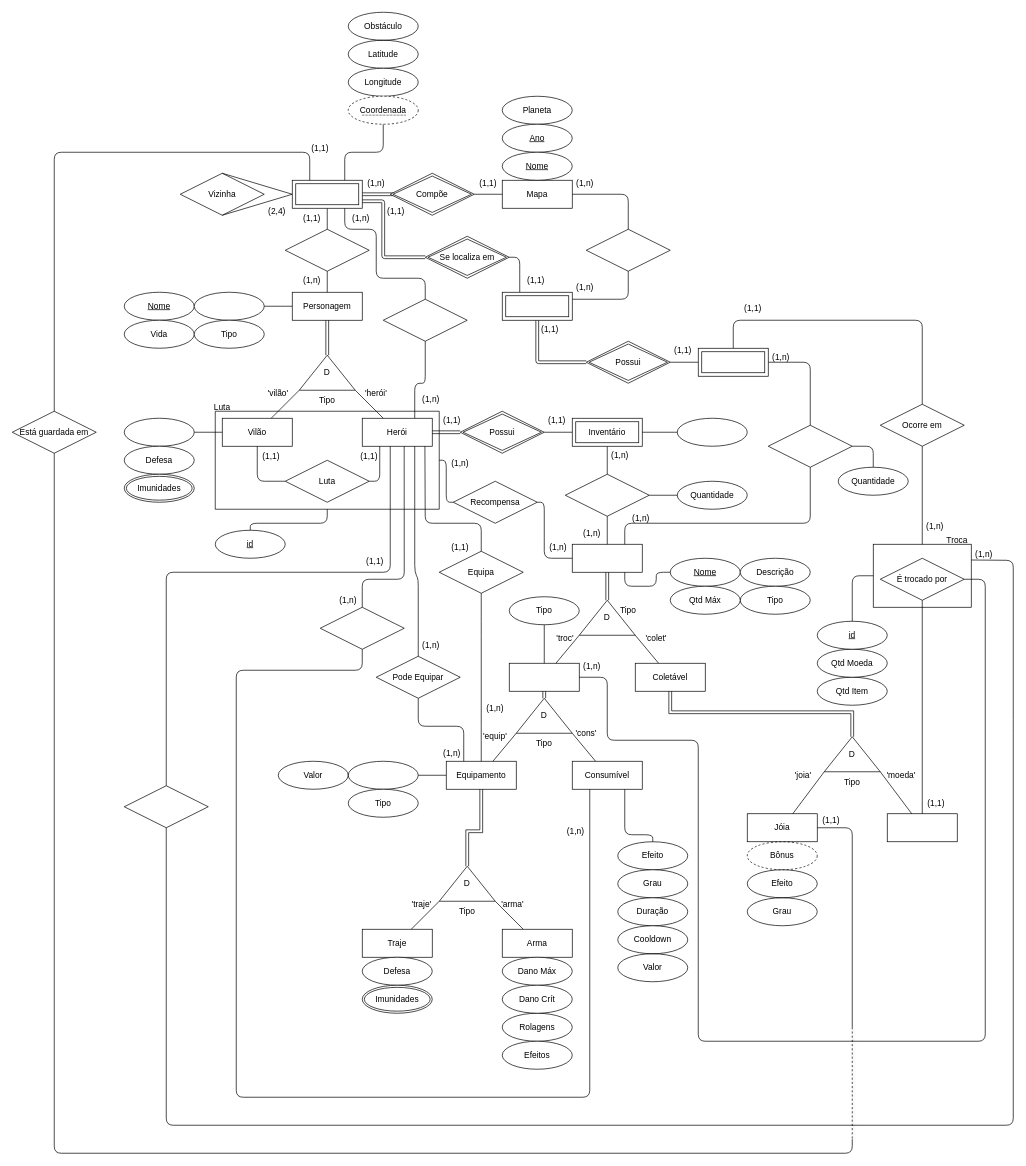
The diagram is 1026 pixels wide and 1166 high, and some of its shapes have lost their labels. The shapes that lost their labels are listed below. From the top down, each one's centre as x and y in pixels, then its label:
At [327,194]: "Espaço".
At [327,250]: "Está em".
At [628,250]: "Leva a outro".
At [229,306]: "Agilidade".
At [425,320]: "Vai para".
At [537,306]: "Base".
At [733,362]: "Loja".
At [159,432]: "Dano".
At [712,432]: "Tamanho".
At [810,446]: "Estoca".
At [607,495]: "Guarda".
At [607,558]: "Item".
At [362,628]: "Consome".
At [544,677]: "Trocável".
At [383,775]: "Integridade".
At [166,806]: "É feita por".
At [922,827]: "Moeda".
